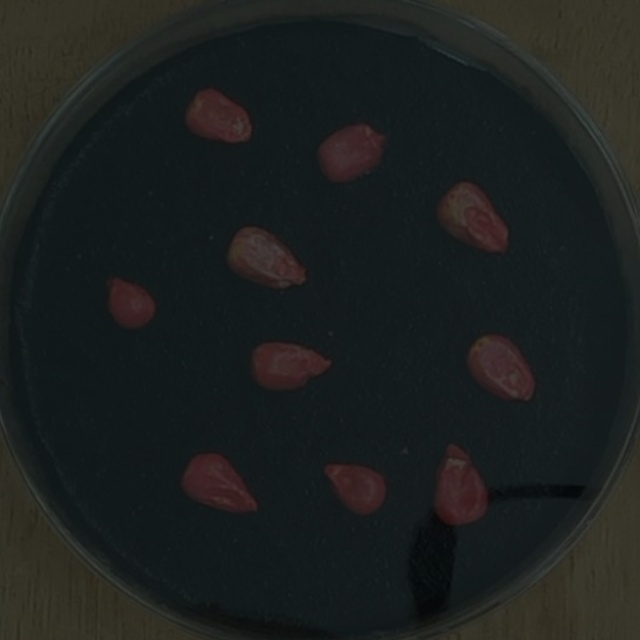Zea mays: (426, 172, 517, 263), (217, 217, 315, 298), (457, 324, 544, 412), (424, 432, 496, 532), (243, 329, 341, 401), (173, 445, 265, 520), (309, 117, 393, 194), (176, 81, 260, 152), (315, 451, 391, 522), (98, 269, 164, 338)
